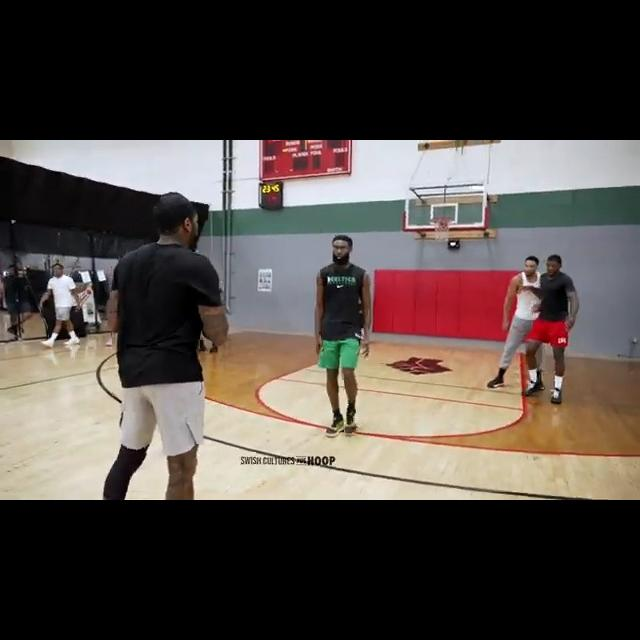hoop: (433, 217, 451, 244)
person: (103, 192, 229, 499), (316, 235, 374, 442), (523, 254, 578, 406), (487, 256, 549, 390), (39, 264, 82, 346), (3, 266, 28, 333)
